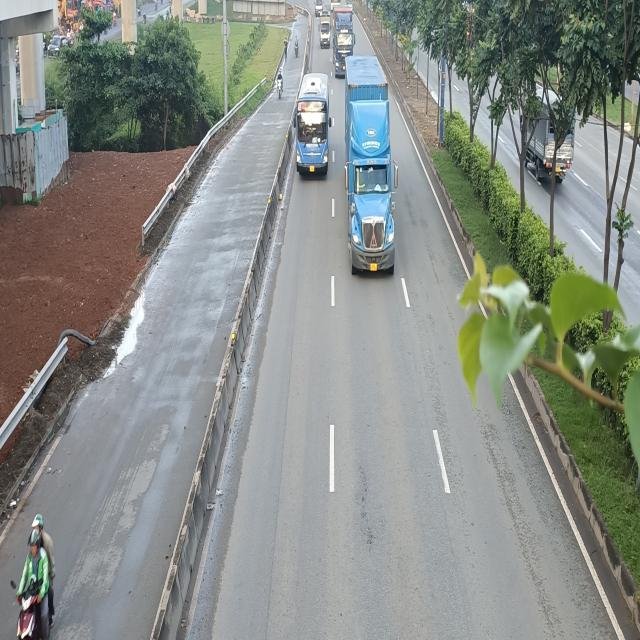coach: (292, 72, 332, 178)
container: (344, 61, 398, 278), (334, 6, 356, 79)
truck: (318, 16, 332, 48)
